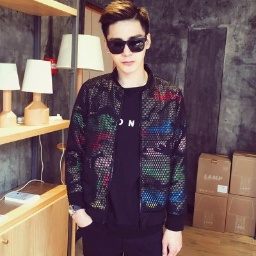face: (99, 1, 152, 73)
